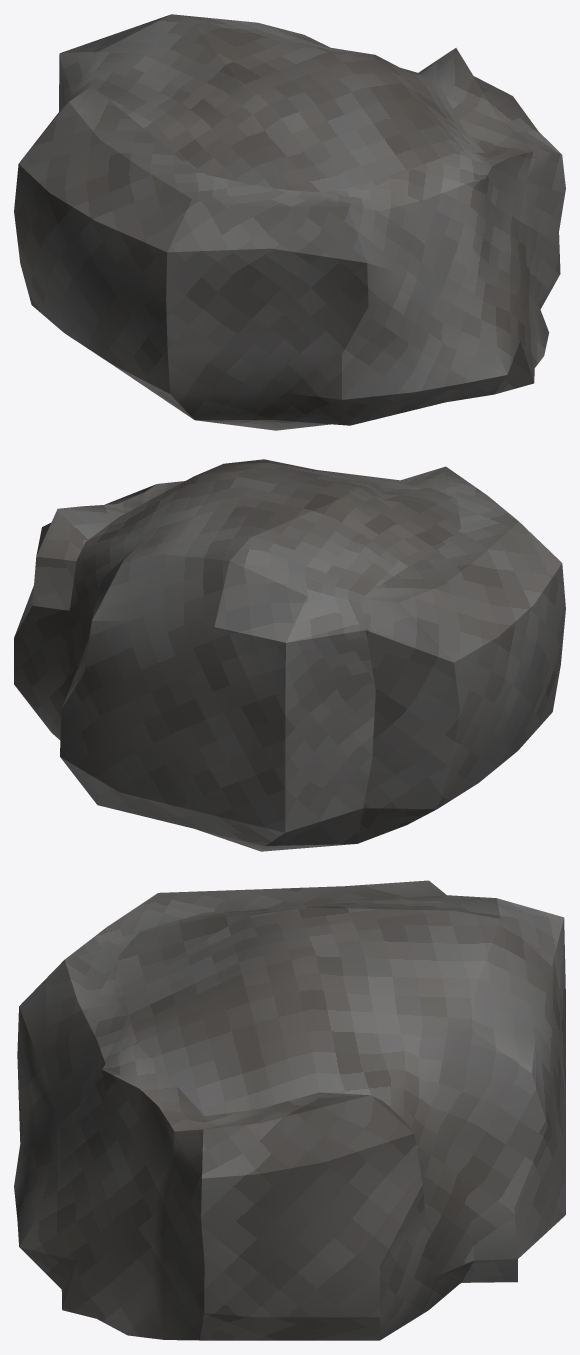
Rendered from boulder2.fbx.
3 views of the same model, one above another, from view 1: azimuth 30°, elevation 25°; view 2: azimuth 150°, elevation 25°; view 3: azimuth 270°, elevation 25° (orthographic). The views are drawn at different scales.
Visible parts, largest first — view 1: boulder2; view 2: boulder2; view 3: boulder2.
Boxes of the visible parts, box(x1,y1,x2,y2) form: boulder2: box(14, 14, 565, 430); boulder2: box(14, 459, 565, 851); boulder2: box(14, 880, 565, 1340).
Bounding box in the file's own units: 4.36 × 2.8 × 4.
